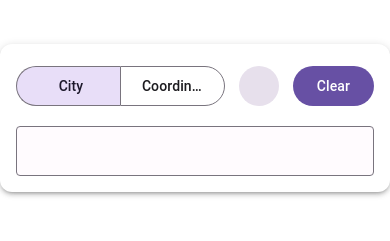
Test: SearchBar + useCitySearch integration › shows loading instead of "No cities found" while the search is debounced
The image size is (390, 241).
Type "Xyzzyq" into the field named "Search city" at (195, 152), box 16,128 -> 374,176
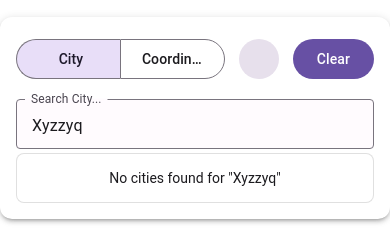
expect the text "No cities found for \"Xyzzyq\"" is shown: met, box 109,170 -> 281,186
